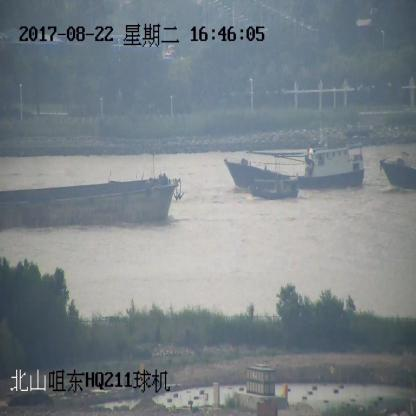Fishing Boat: (224, 142, 364, 192), (382, 153, 415, 191), (249, 174, 297, 200)
